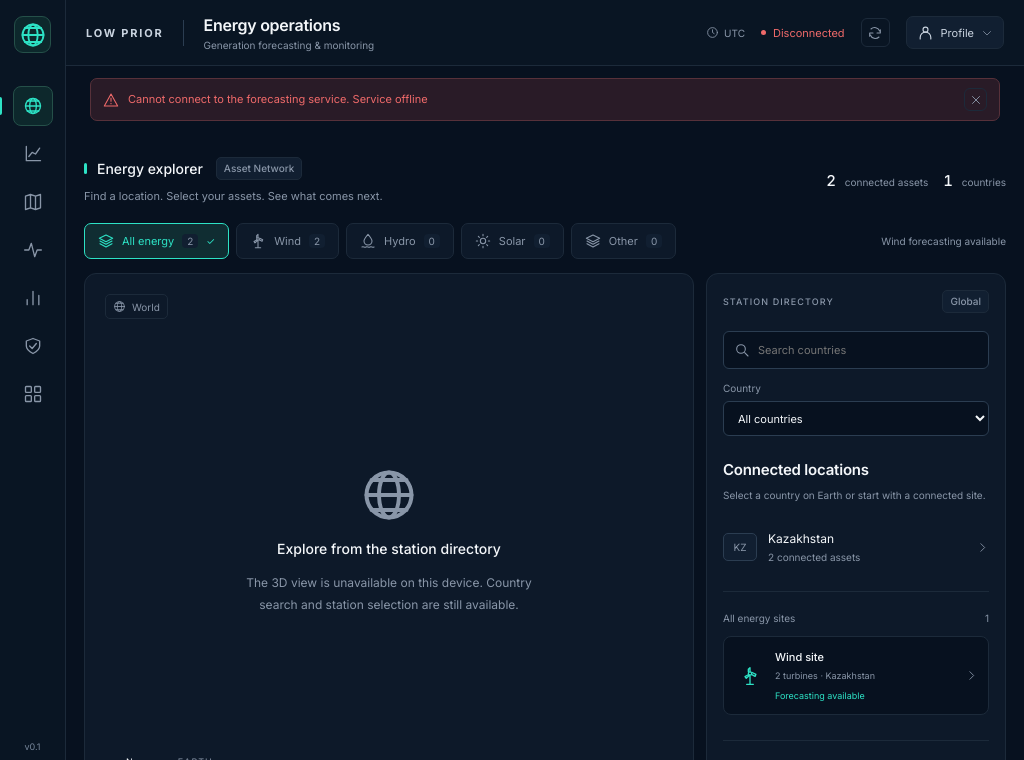
Test: connection errors remain visible in Explore and Refresh can recover
Expected: the heading "Energy explorer" is shown, [97,160,203,177]
Click the button named "Refresh workspace data": (875, 32) [861,18,890,47]
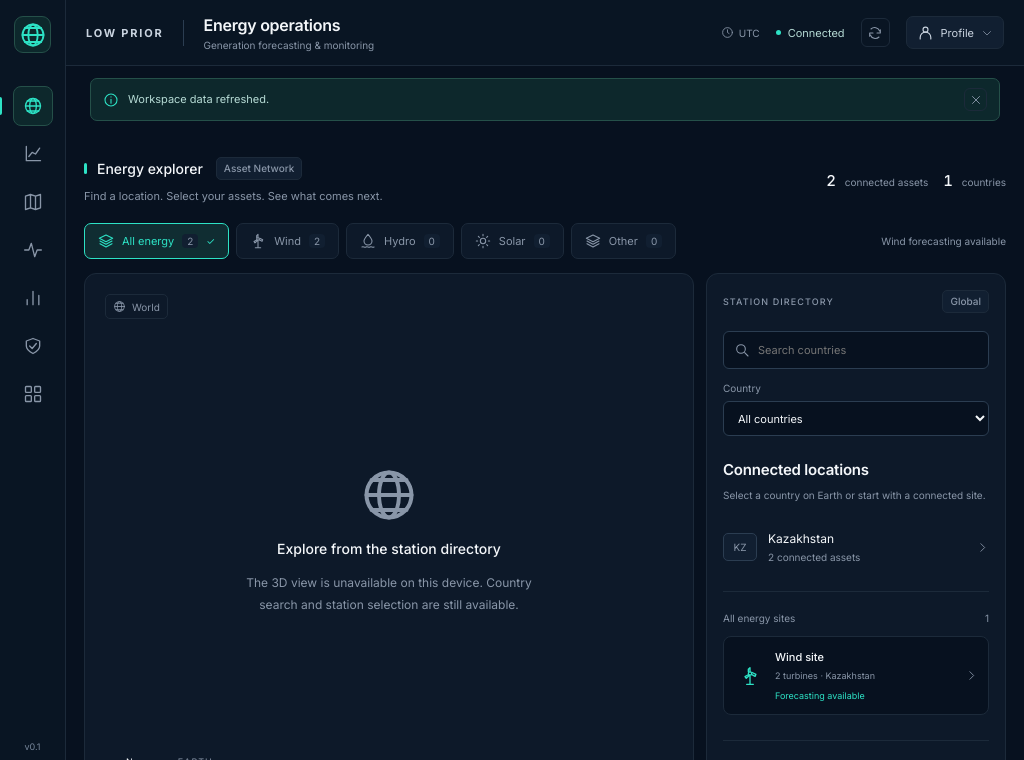
Result: the text "Workspace data refreshed." is shown at [128,91,269,108]
Result: the text "Cannot connect to the forecasting service" is gone
